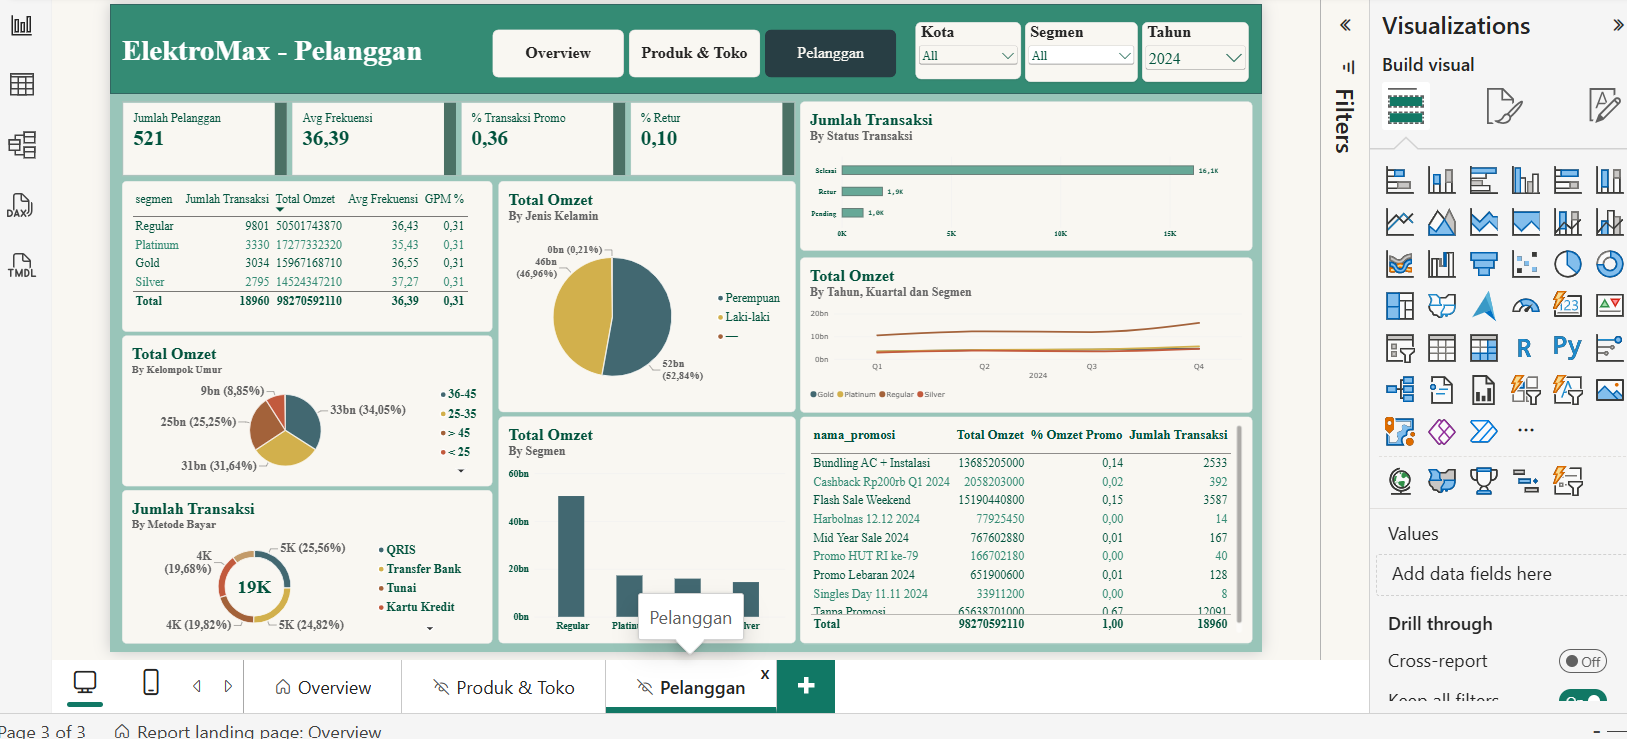

This screenshot's page, from the dashboard's own definition file:
{"tool":"powerbi","page":{"name":"Pelanggan","canvas":[1920,1080],"ordinal":2},"visuals":[{"type":"cardVisual","fields":{"Data":["_MEASURE.Jumlah Pelanggan","_MEASURE.Avg Frekuansi","_MEASURE.% Transaksi Promo","_MEASURE.% Retur"]},"box":[19.5,163.5,1122.3,124.4],"z":0},{"type":"columnChart","title":"Total Omzet","fields":{"Category":["DIM_PELANGGAN.segmen"],"Y":["_MEASURE.Total Omzet"]},"box":[646.6,688,495.3,378.2],"z":1000},{"type":"lineChart","title":"Total Omzet","fields":{"Category":["DIM_WAKTU.tahun Hierarki.tahun","DIM_WAKTU.tahun Hierarki.kuartal","DIM_WAKTU.tahun Hierarki.nomor_bulan","DIM_WAKTU.tahun Hierarki.tanggal"],"Series":["DIM_PELANGGAN.segmen"],"Y":["_MEASURE.Total Omzet"]},"box":[1149.2,422.1,753.9,258.6],"z":2000},{"type":"tableEx","fields":{"Values":["DIM_PELANGGAN.segmen","_MEASURE.Jumlah Transaksi","_MEASURE.Total Omzet","_MEASURE.Avg Frekuansi","_MEASURE.GPM %"]},"box":[19.5,295.2,617.3,251.3],"z":3000},{"type":"shape","box":[0,0,1920,150],"z":3500},{"type":"pieChart","title":"Total Omzet","fields":{"Category":["DIM_PELANGGAN.kelompok_umur"],"Y":["_MEASURE.Total Omzet"]},"box":[19.5,551.4,617.3,251.3],"z":4000},{"type":"pieChart","title":"Total Omzet","fields":{"Category":["DIM_PELANGGAN.jenis_kelamin"],"Y":["_MEASURE.Total Omzet"]},"box":[646.6,295.2,495.3,385.5],"z":5000},{"type":"donutChart","title":"Jumlah Transaksi","fields":{"Category":["FACT_PENJUALAN.metode_bayar"],"Y":["_MEASURE.Jumlah Transaksi"]},"box":[19.5,810,617.3,256.2],"z":6000},{"type":"barChart","title":"Jumlah Transaksi","fields":{"Category":["FACT_PENJUALAN.status_transaksi"],"Y":["_MEASURE.Jumlah Transaksi"]},"box":[1149.2,163.5,753.9,248.9],"z":7000},{"type":"tableEx","fields":{"Values":["DIM_PROMOSI.nama_promosi","_MEASURE.Total Omzet","_MEASURE.% Omzet Promo","_MEASURE.Jumlah Transaksi"]},"box":[1149.2,688,753.9,378.2],"z":8000},{"type":"slicer","fields":{"Values":["DIM_PELANGGAN.segmen"]},"box":[1524.9,29.6,187.9,100],"z":9000},{"type":"slicer","fields":{"Values":["DIM_PELANGGAN.kota"]},"box":[1341.9,29.6,175.7,95.2],"z":11000},{"type":"pageNavigator","box":[636.8,41.5,673.4,80.5],"z":12000},{"type":"slicer","fields":{"Values":["DIM_WAKTU.tahun"]},"box":[1720.1,29.6,178.1,100],"z":13000},{"type":"textbox","box":[19.5,48.8,642.5,67.5],"z":14000}]}

Visuals, with their boxes on the page's 1920x1080 design canvas (x1, y1, x2, y2). These are canvas units, not pixel positions in the 1627x739 screenshot, which may show the page scaled, cropped or inside an application window:
cardVisual - _MEASURE.Jumlah Pelanggan x _MEASURE.Avg Frekuansi: pyautogui.locateOnScreen(20, 164, 1142, 288)
"Total Omzet" columnChart: pyautogui.locateOnScreen(647, 688, 1142, 1066)
"Total Omzet" lineChart: pyautogui.locateOnScreen(1149, 422, 1903, 681)
tableEx - DIM_PELANGGAN.segmen x _MEASURE.Jumlah Transaksi: pyautogui.locateOnScreen(20, 295, 637, 546)
shape: pyautogui.locateOnScreen(0, 0, 1920, 150)
"Total Omzet" pieChart: pyautogui.locateOnScreen(20, 551, 637, 803)
"Total Omzet" pieChart: pyautogui.locateOnScreen(647, 295, 1142, 681)
"Jumlah Transaksi" donutChart: pyautogui.locateOnScreen(20, 810, 637, 1066)
"Jumlah Transaksi" barChart: pyautogui.locateOnScreen(1149, 164, 1903, 412)
tableEx - DIM_PROMOSI.nama_promosi x _MEASURE.Total Omzet: pyautogui.locateOnScreen(1149, 688, 1903, 1066)
slicer - DIM_PELANGGAN.segmen: pyautogui.locateOnScreen(1525, 30, 1713, 130)
slicer - DIM_PELANGGAN.kota: pyautogui.locateOnScreen(1342, 30, 1518, 125)
pageNavigator: pyautogui.locateOnScreen(637, 42, 1310, 122)
slicer - DIM_WAKTU.tahun: pyautogui.locateOnScreen(1720, 30, 1898, 130)
textbox: pyautogui.locateOnScreen(20, 49, 662, 116)
